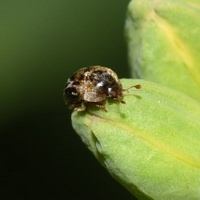insect: (63, 66, 122, 110)
